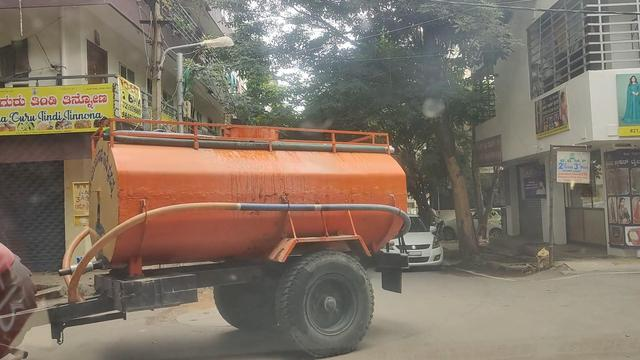HMV: (0, 82, 423, 360)
